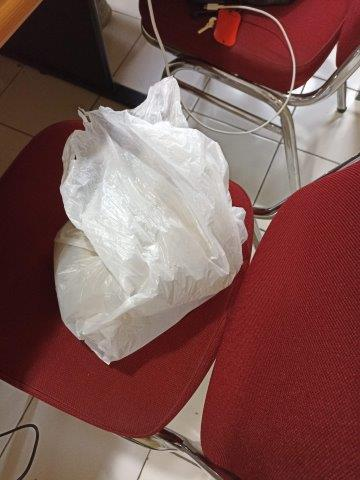plastik: (54, 73, 248, 365)
